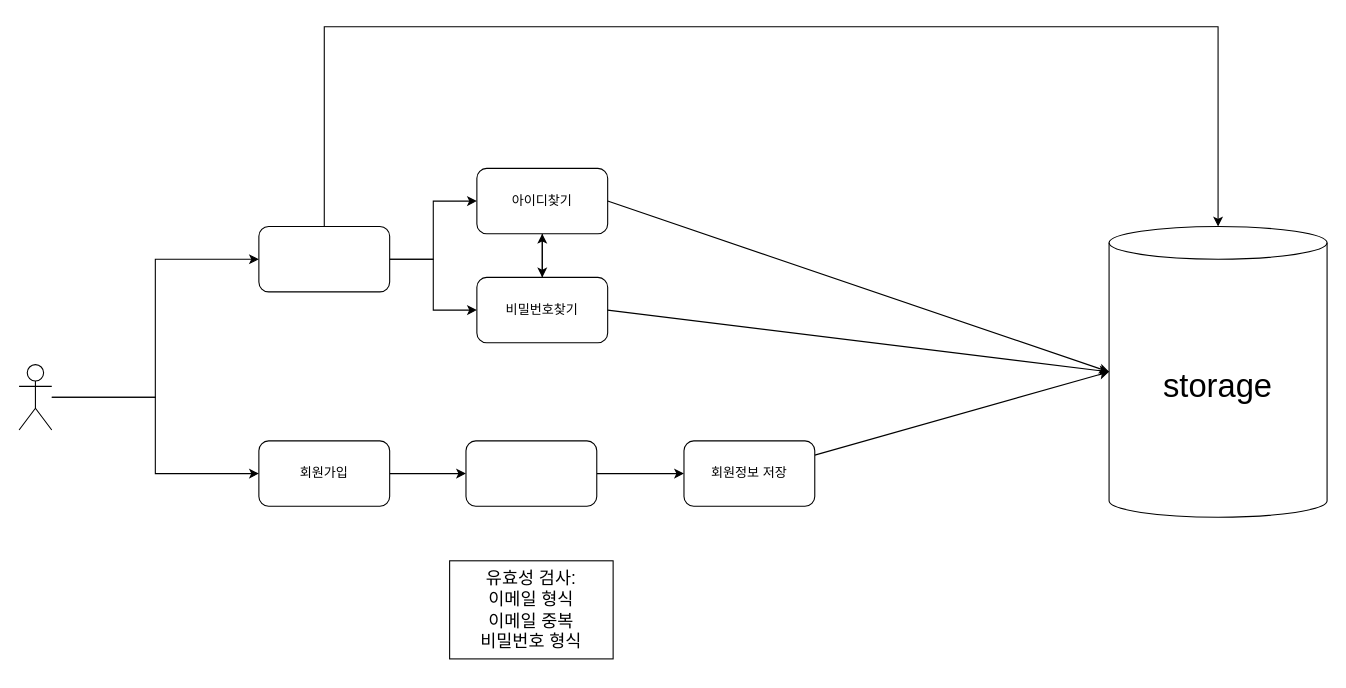
Image size: 1346x688. Some labels were removed from this diagram. Each missing label, with the centre of its shape:
"Actor" goes at [35,397].
"로그인" goes at [324,258].
"유효성 검사" goes at [531,473].
